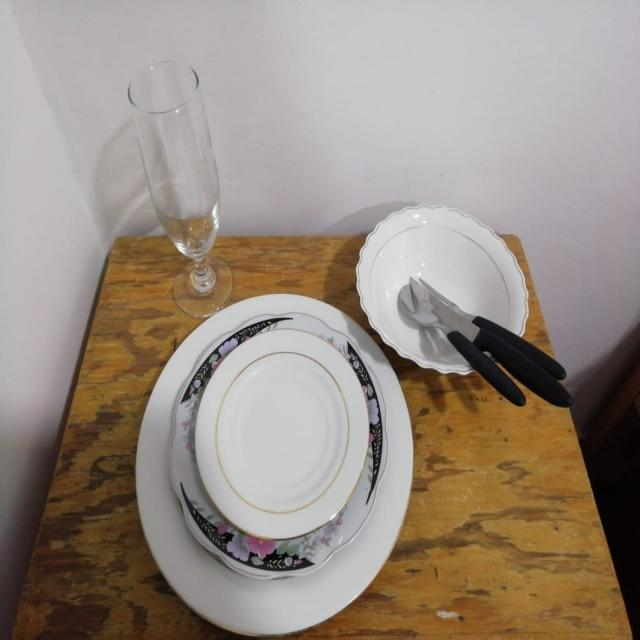non-organic waste: (171, 298, 458, 640), (128, 360, 430, 640), (334, 235, 520, 409), (208, 310, 338, 547)
